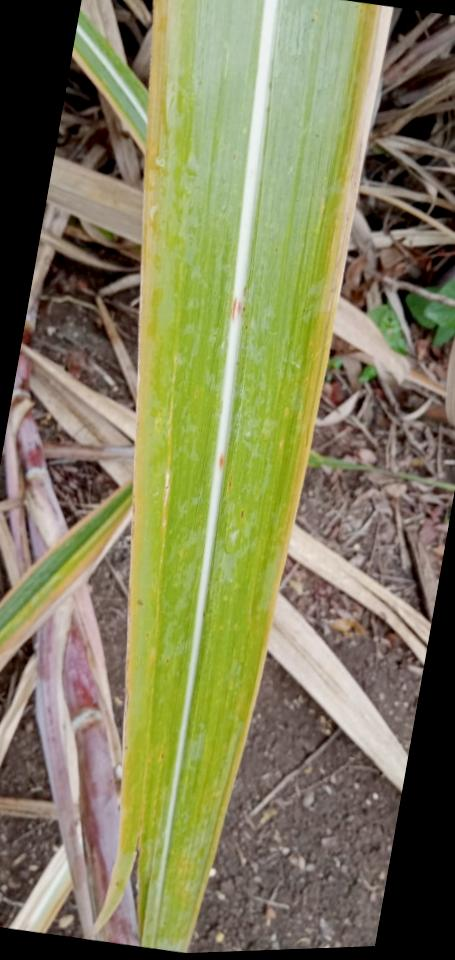RedRot: (230, 297, 236, 322), (217, 453, 224, 471), (235, 300, 241, 315)
Rust: (227, 477, 233, 492), (135, 600, 142, 607), (239, 510, 244, 519), (123, 746, 128, 753), (241, 307, 246, 313), (243, 325, 248, 330), (159, 754, 163, 759), (165, 659, 168, 664), (145, 633, 148, 637)
Yellow: (226, 2, 392, 805), (119, 0, 196, 859)
